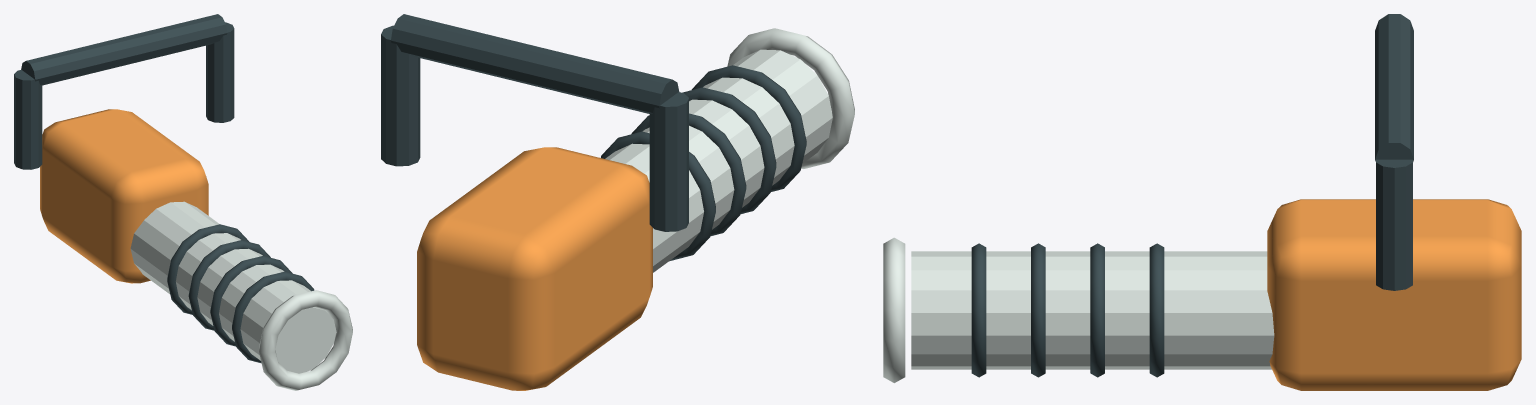
3 renders of one model, left to right at view 1: azimuth 30°, elevation 25°; view 2: azimuth 150°, elevation 25°; view 3: azimuth 270°, elevation 25°, orthographic. The views are drawn at different scales.
Parts seen in each view (by area): view 1: sample-core-drill-orange, sample-core-drill-pale, sample-core-drill-dark; view 2: sample-core-drill-orange, sample-core-drill-dark, sample-core-drill-pale; view 3: sample-core-drill-orange, sample-core-drill-pale, sample-core-drill-dark.
Part boxes in pixels (x1,y1,x2,y2): sample-core-drill-orange: (40,109,208,283); sample-core-drill-pale: (130,201,352,390); sample-core-drill-dark: (14,14,314,363); sample-core-drill-orange: (417,147,652,390); sample-core-drill-dark: (381,14,806,261); sample-core-drill-pale: (605,28,854,272); sample-core-drill-orange: (1267,199,1521,390); sample-core-drill-pale: (883,237,1274,383); sample-core-drill-dark: (971,14,1413,377).
Size of the model in its own units: 0.406 by 0.3877 by 0.753.
